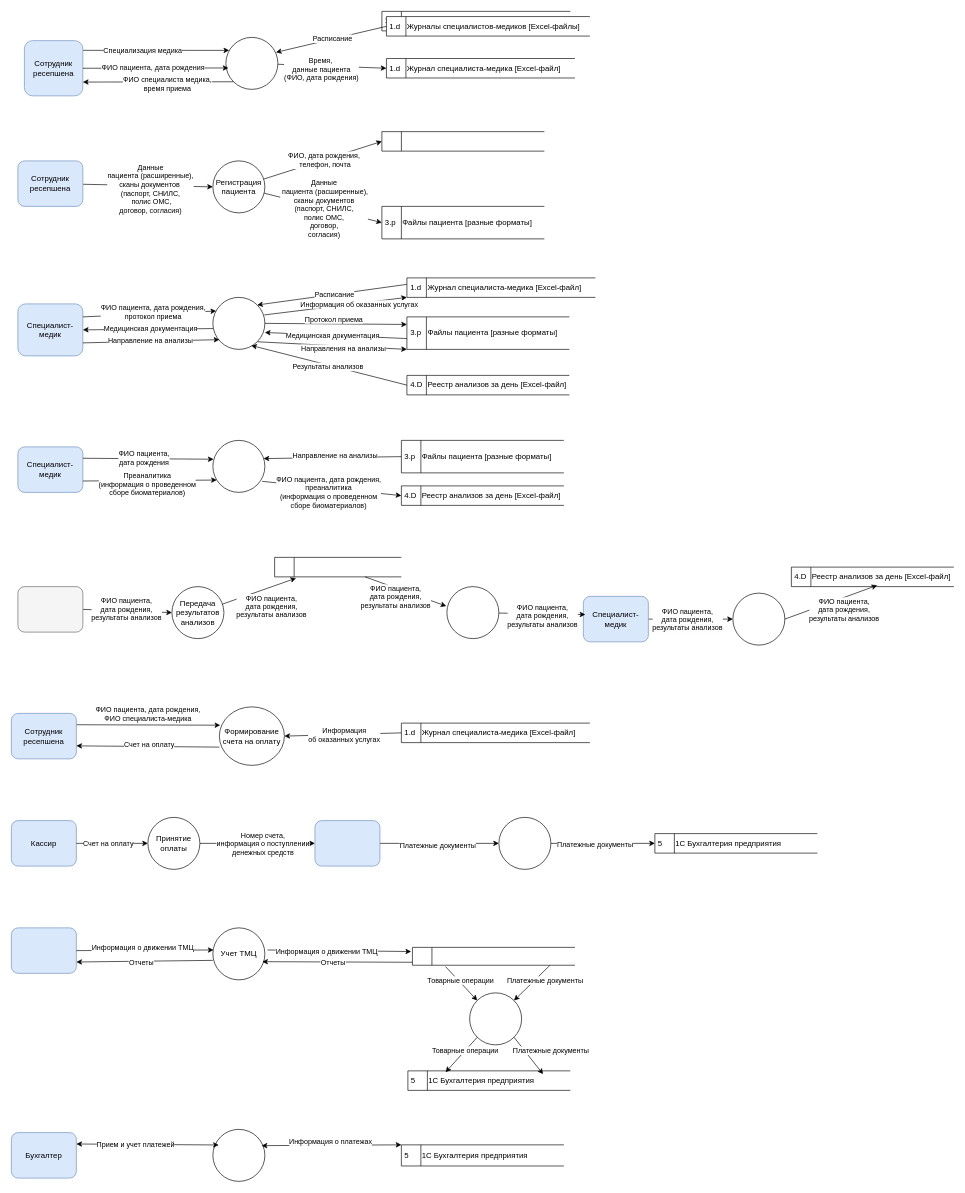
The diagram is 965 pixels wide and 1193 high, and some of its shapes have lost their labels. The shapes that lost their labels are listed below. From the top down, each one's box as (x1, y1, x2, y2) in pixels, then its label:
(225, 37, 278, 89): Запись пациента на прием
(381, 131, 544, 151): 2 Список пациентов [Excel-файл]
(212, 297, 265, 349): Прием пациента
(212, 440, 265, 492): Проведение анализов
(274, 557, 401, 577): 7 Exchange Mail Server
(17, 586, 83, 632): Медицинская лаборатория
(446, 586, 499, 639): Обработка входящих сообщений
(732, 592, 785, 645): Сохранение результатов
(314, 820, 380, 866): ККМ
(498, 817, 551, 869): Учет денежных средств
(11, 927, 76, 973): Сотрудник склада
(412, 947, 575, 965): 6 1С Торговля и склад
(469, 992, 522, 1045): Обмен данными
(212, 1129, 265, 1181): Процессинг платежей
